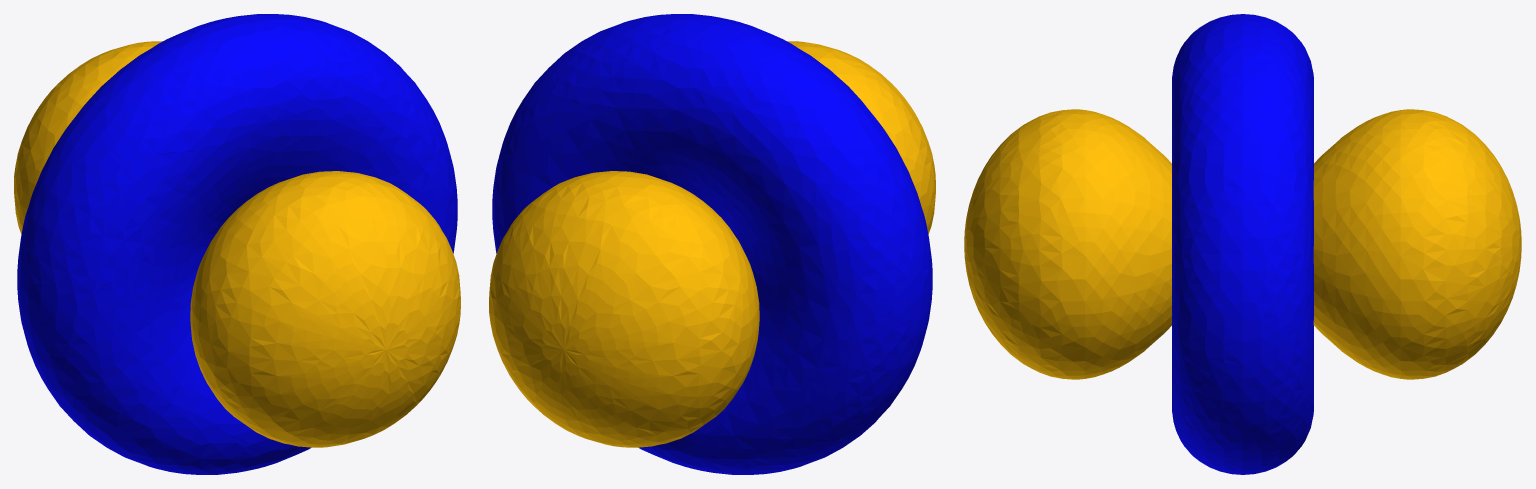
The picture shows the model from 3 angles, left to right: view 1: azimuth 30°, elevation 25°; view 2: azimuth 150°, elevation 25°; view 3: azimuth 270°, elevation 25°; orthographic projection. The views are drawn at different scales.
Bounding box in the file's own units: 16.29 × 16.29 × 19.69.
